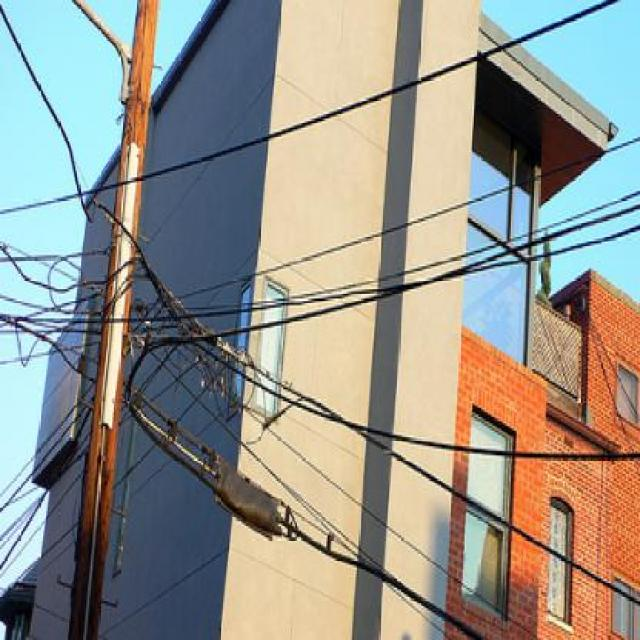pole: (70, 14, 162, 640)
